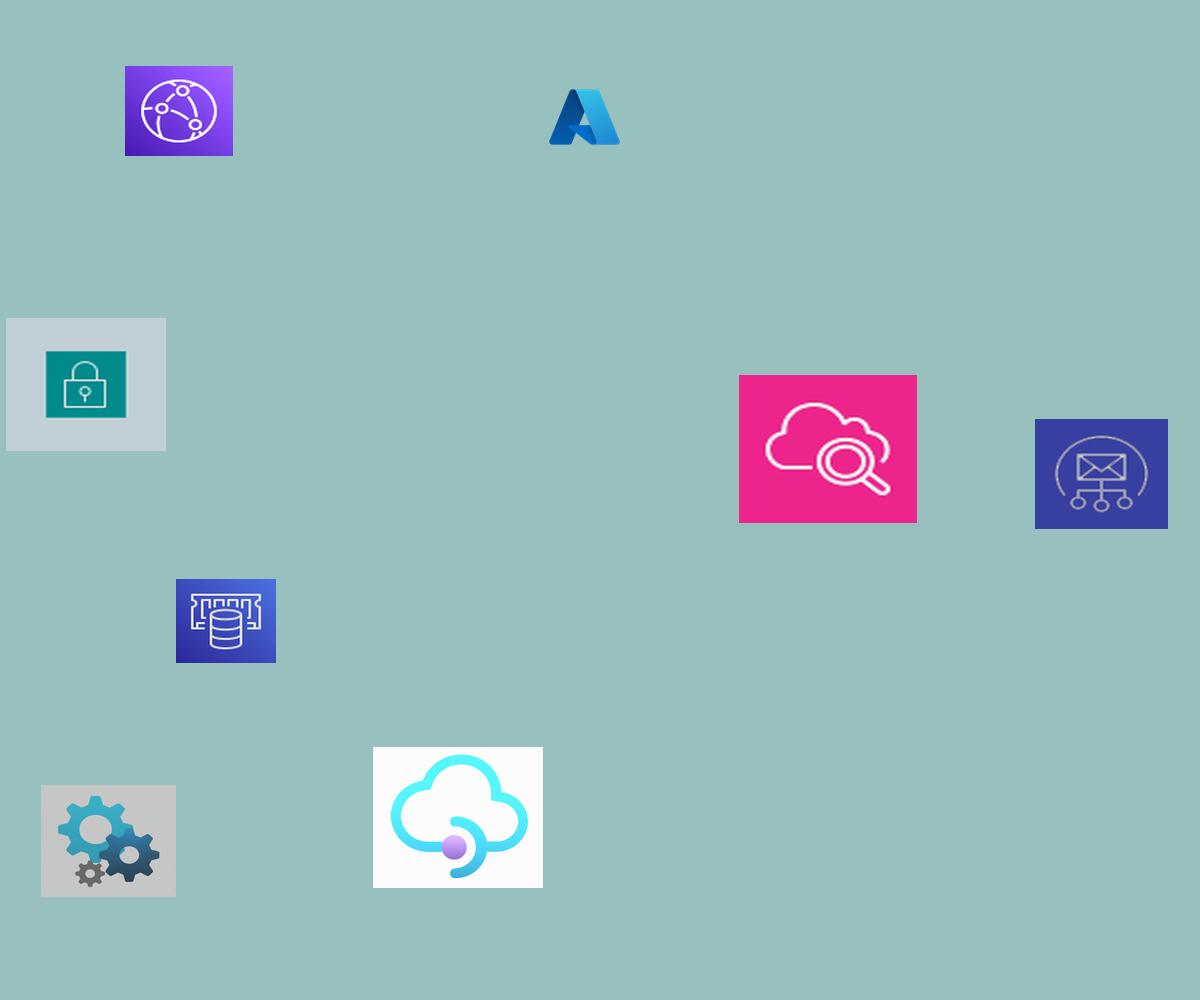AWS-CloudFront: (125, 66, 233, 156)
AWS-CloudWatch: (739, 375, 917, 523)
AWS-ElastiCache: (176, 579, 276, 663)
AWS-Private-subnet: (6, 318, 166, 451)
AWS-Simple-Email-Service: (1035, 419, 1168, 529)
Azure_api: (41, 785, 176, 897)
Azure_api_gateway: (373, 747, 543, 888)
Azure_services: (546, 85, 623, 149)
